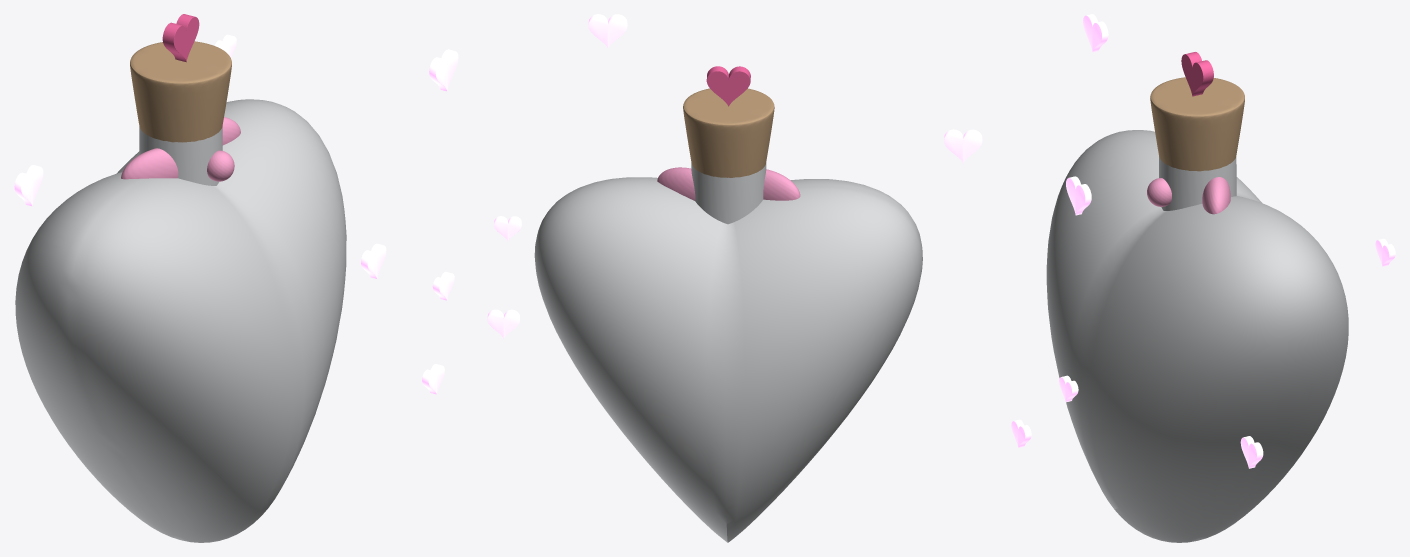
File: lovepotion.glb
The picture shows the model from 3 angles, left to right: view 1: azimuth 30°, elevation 25°; view 2: azimuth 150°, elevation 25°; view 3: azimuth 270°, elevation 25°; orthographic projection. The views are drawn at different scales.
Parts seen in each view (by area): view 1: LovePotion_Glass, LovePotion_Cork, LovePotion_GlassNeck, LovePotion_BowLoop.001, LovePotion_CorkHeart, LovePotion_FloatHeart.004, LovePotion_FloatHeart.002, LovePotion_BowKnot, LovePotion_FloatHeart.005; view 2: LovePotion_Glass, LovePotion_Cork, LovePotion_GlassNeck, LovePotion_CorkHeart, LovePotion_FloatHeart.004, LovePotion_FloatHeart.002, LovePotion_BowLoop.001, LovePotion_BowLoop, LovePotion_FloatHeart.005; view 3: LovePotion_Glass, LovePotion_Cork, LovePotion_GlassNeck, LovePotion_CorkHeart, LovePotion_BowLoop, LovePotion_FloatHeart.004, LovePotion_FloatHeart.002, LovePotion_BowKnot, LovePotion_FloatHeart.005.
Boxes of the visible parts, <box> form: LovePotion_Glass: <box>15,99,346,542</box>; LovePotion_Cork: <box>130,41,231,142</box>; LovePotion_GlassNeck: <box>139,126,222,185</box>; LovePotion_BowLoop.001: <box>121,148,178,179</box>; LovePotion_CorkHeart: <box>162,14,199,62</box>; LovePotion_FloatHeart.004: <box>429,49,458,91</box>; LovePotion_FloatHeart.002: <box>14,165,43,206</box>; LovePotion_BowKnot: <box>207,150,234,181</box>; LovePotion_FloatHeart.005: <box>361,243,386,278</box>; LovePotion_Glass: <box>534,177,922,542</box>; LovePotion_Cork: <box>683,88,774,177</box>; LovePotion_GlassNeck: <box>691,163,766,224</box>; LovePotion_CorkHeart: <box>706,66,750,106</box>; LovePotion_FloatHeart.004: <box>588,14,627,48</box>; LovePotion_FloatHeart.002: <box>944,129,982,163</box>; LovePotion_BowLoop.001: <box>763,169,800,200</box>; LovePotion_BowLoop: <box>657,167,695,200</box>; LovePotion_FloatHeart.005: <box>487,309,520,338</box>; LovePotion_Glass: <box>1046,130,1348,542</box>; LovePotion_Cork: <box>1150,77,1244,171</box>; LovePotion_GlassNeck: <box>1159,157,1236,210</box>; LovePotion_CorkHeart: <box>1181,52,1213,96</box>; LovePotion_BowLoop: <box>1202,177,1230,214</box>; LovePotion_FloatHeart.004: <box>1066,176,1091,215</box>; LovePotion_FloatHeart.002: <box>1083,14,1108,52</box>; LovePotion_BowKnot: <box>1147,178,1171,206</box>; LovePotion_FloatHeart.005: <box>1240,436,1263,468</box>.
Bounding box in the file's own units: 2.03 × 2.18 × 1.57.
